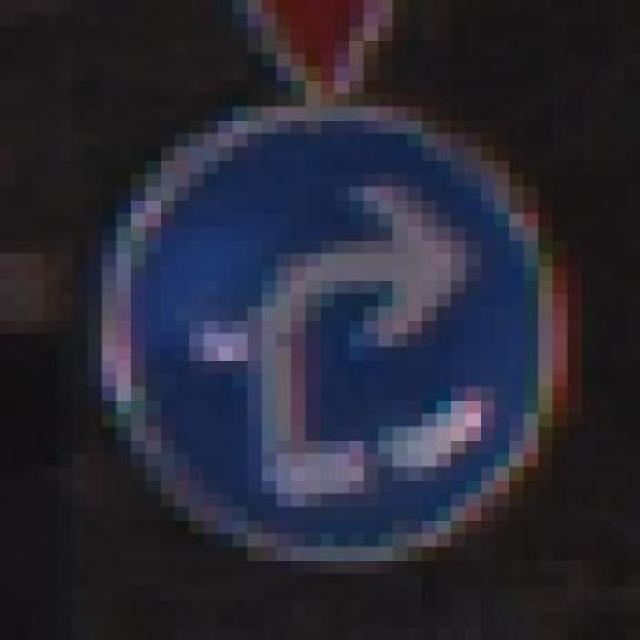Turn right ahead: (101, 93, 582, 587)
